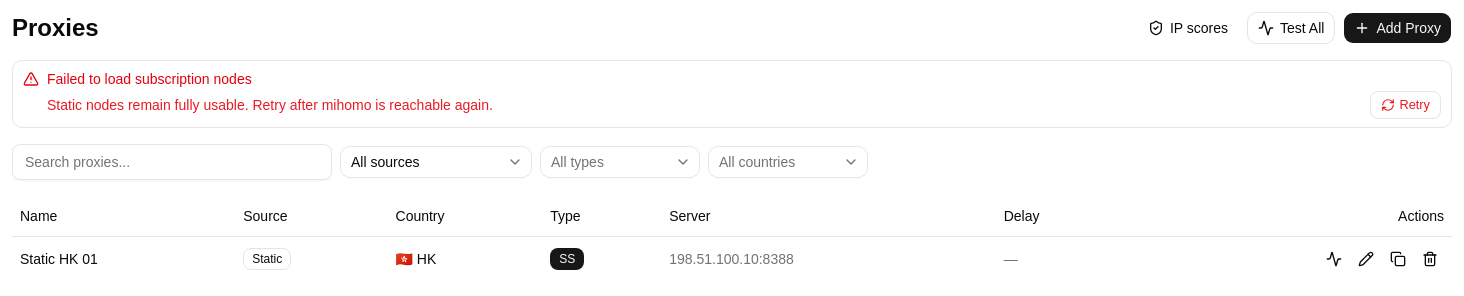
Test case: ProxiesPage node inventory › retries the subscription inventory without touching the static list
The image size is (1464, 296).
Expected: the text "Failed to load subscription nodes" is shown, [47,71,252,87]
Click the button "Retry": click(1406, 105) [1370,91,1441,119]
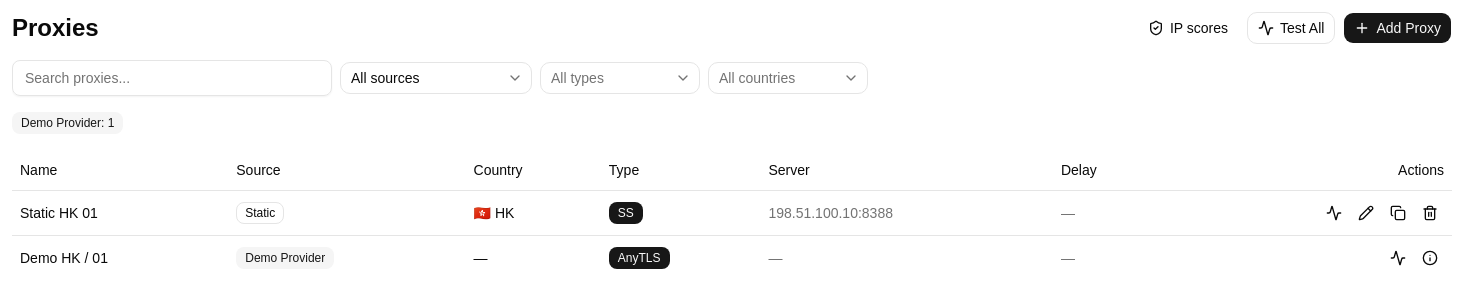
Expected: the text "Static HK 01" is shown, [12,190,228,235]
Now the text "Demo HK / 01" is shown, box [12,235,228,280]
Now the text "Failed to load subscription nodes" is gone
